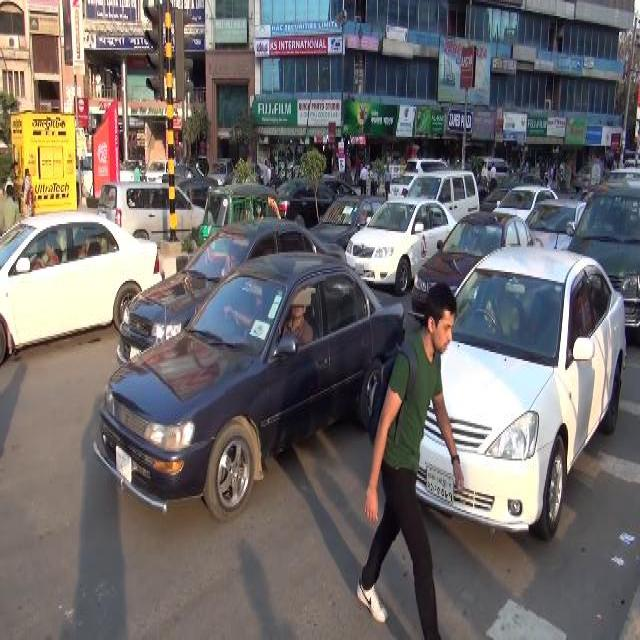car: (92, 248, 404, 527), (397, 243, 629, 546), (116, 216, 347, 371), (0, 204, 165, 373), (402, 209, 544, 328), (342, 195, 458, 296), (94, 177, 212, 239), (273, 174, 341, 231)
minivan: (563, 177, 639, 339), (398, 163, 478, 207), (478, 153, 512, 181)
three wheelers -CNG-: (197, 178, 281, 242)
